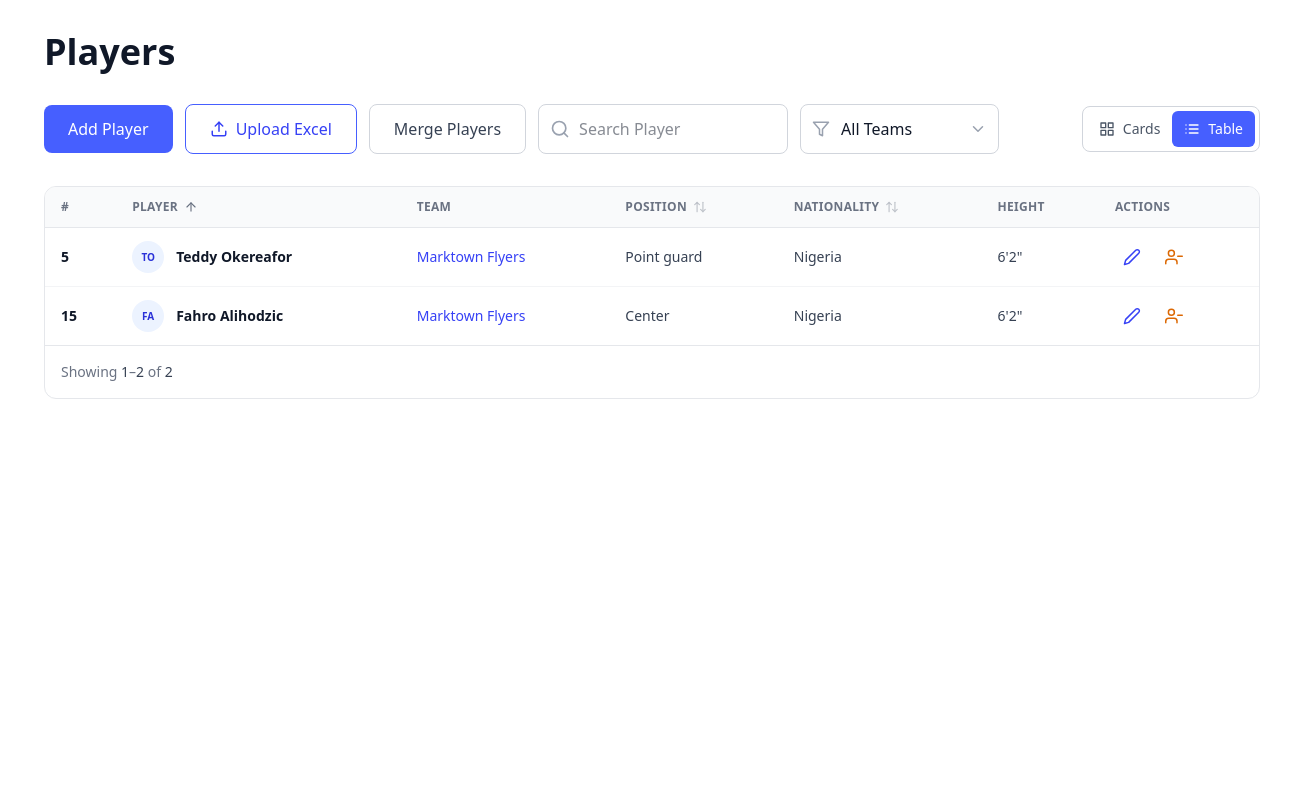
Test: Players: search, filter and sort go through the URL › sorts from a column header by asking the server, not by reordering the page
Click the button "Position": [666, 207] box left=625, top=199, right=707, bottom=215
(page scrolled)
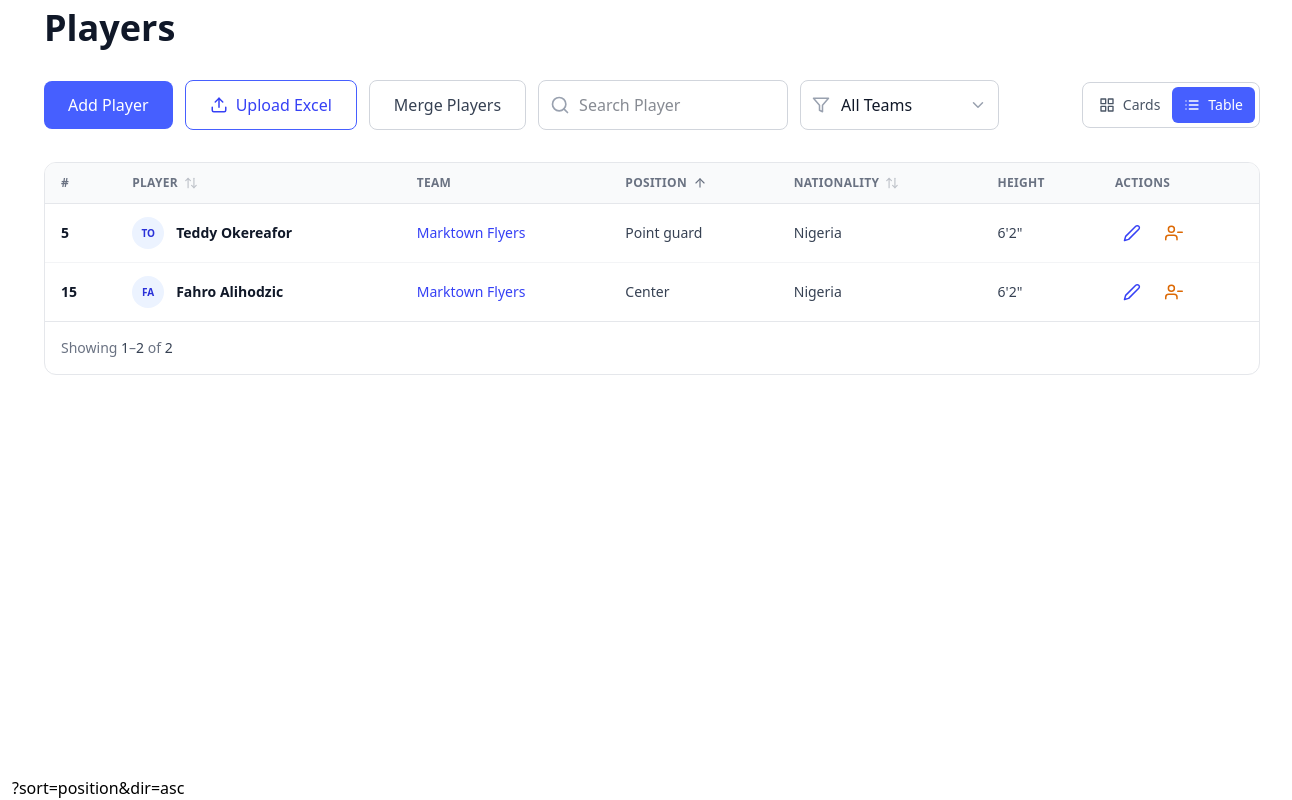
Now the text with test id "where" shows "sort=position", box left=12, top=777, right=184, bottom=799
